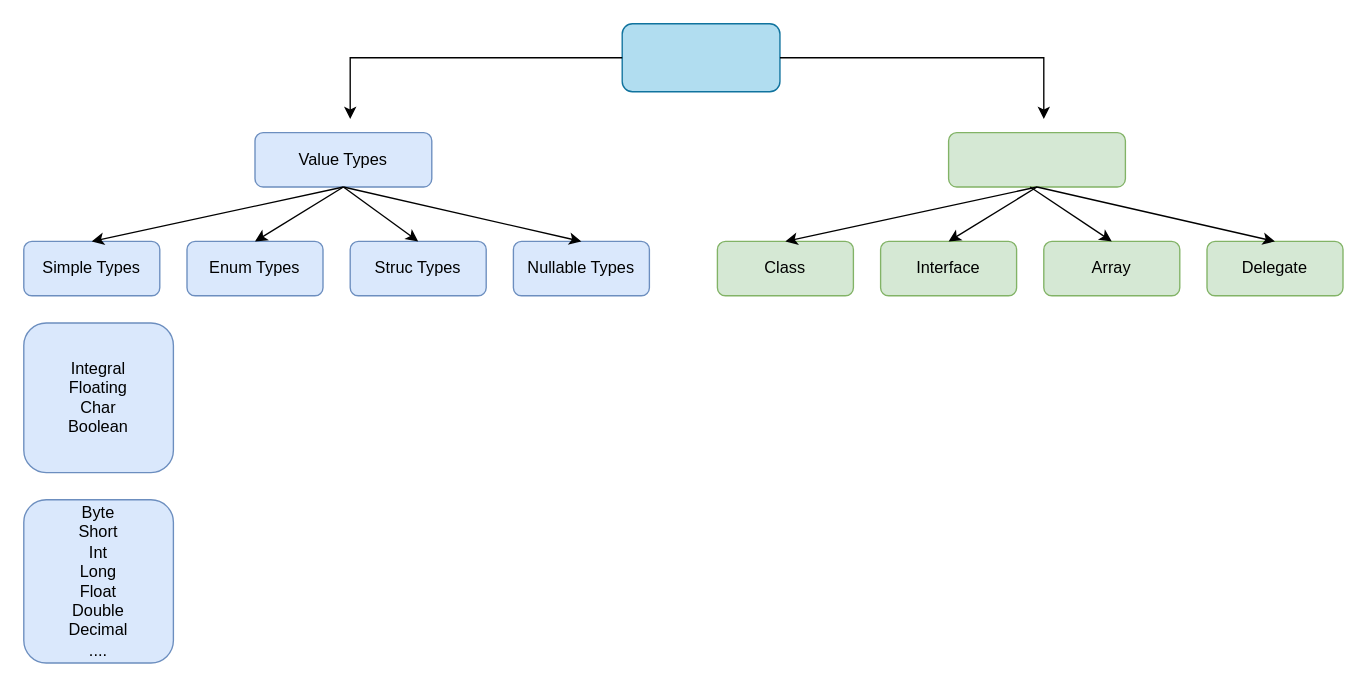
This 1367x687 diagram has some shape labels left out. Here are the shapes that lost their labels. From the top down, the centre of each, then its label:
pixel 700 57: Systems.Obeject
pixel 1036 159: ReferenceTypes
